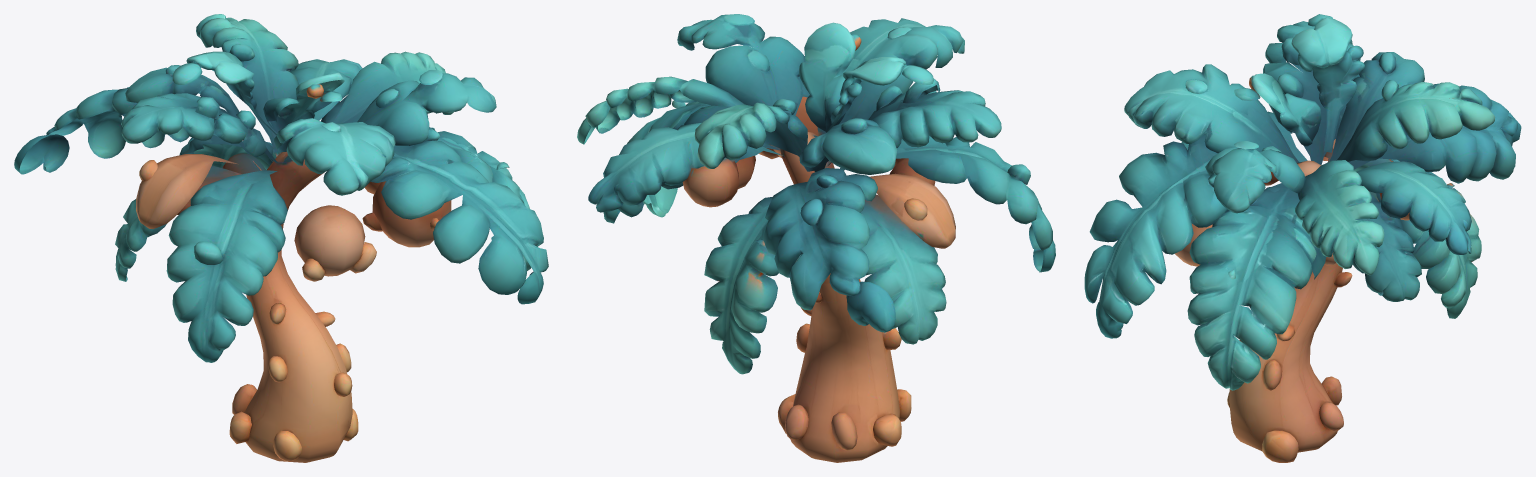
File: tree.glb
3 views of the same model, side by side, from view 1: azimuth 30°, elevation 25°; view 2: azimuth 150°, elevation 25°; view 3: azimuth 270°, elevation 25° (orthographic). The views are drawn at different scales.
Visible parts, largest first — view 1: tripo_node_9a2a72e6-7880-4367-8795-6bc7fc707955; view 2: tripo_node_9a2a72e6-7880-4367-8795-6bc7fc707955; view 3: tripo_node_9a2a72e6-7880-4367-8795-6bc7fc707955.
Boxes of the visible parts, bbox=[...] form: tripo_node_9a2a72e6-7880-4367-8795-6bc7fc707955: bbox=[14, 14, 548, 462]; tripo_node_9a2a72e6-7880-4367-8795-6bc7fc707955: bbox=[577, 14, 1055, 462]; tripo_node_9a2a72e6-7880-4367-8795-6bc7fc707955: bbox=[1084, 14, 1521, 462].
Size of the model in its own units: 0.9878 by 0.9761 by 0.9995.
1 material, 1 textured.
